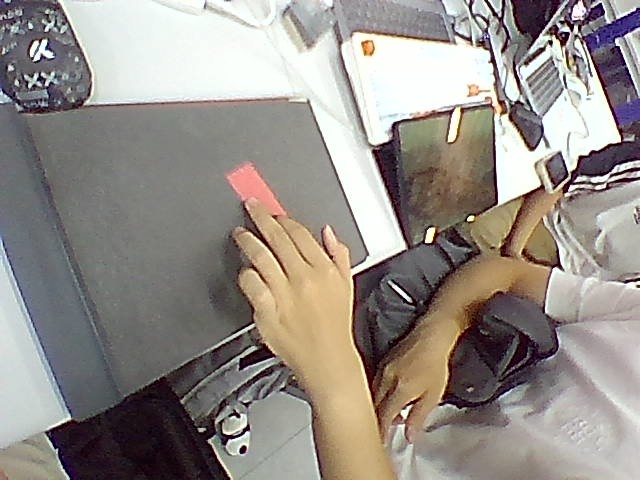card: (227, 162, 286, 214)
